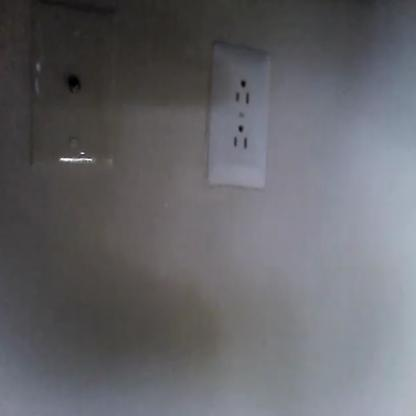OUTLET: (206, 50, 274, 188)
